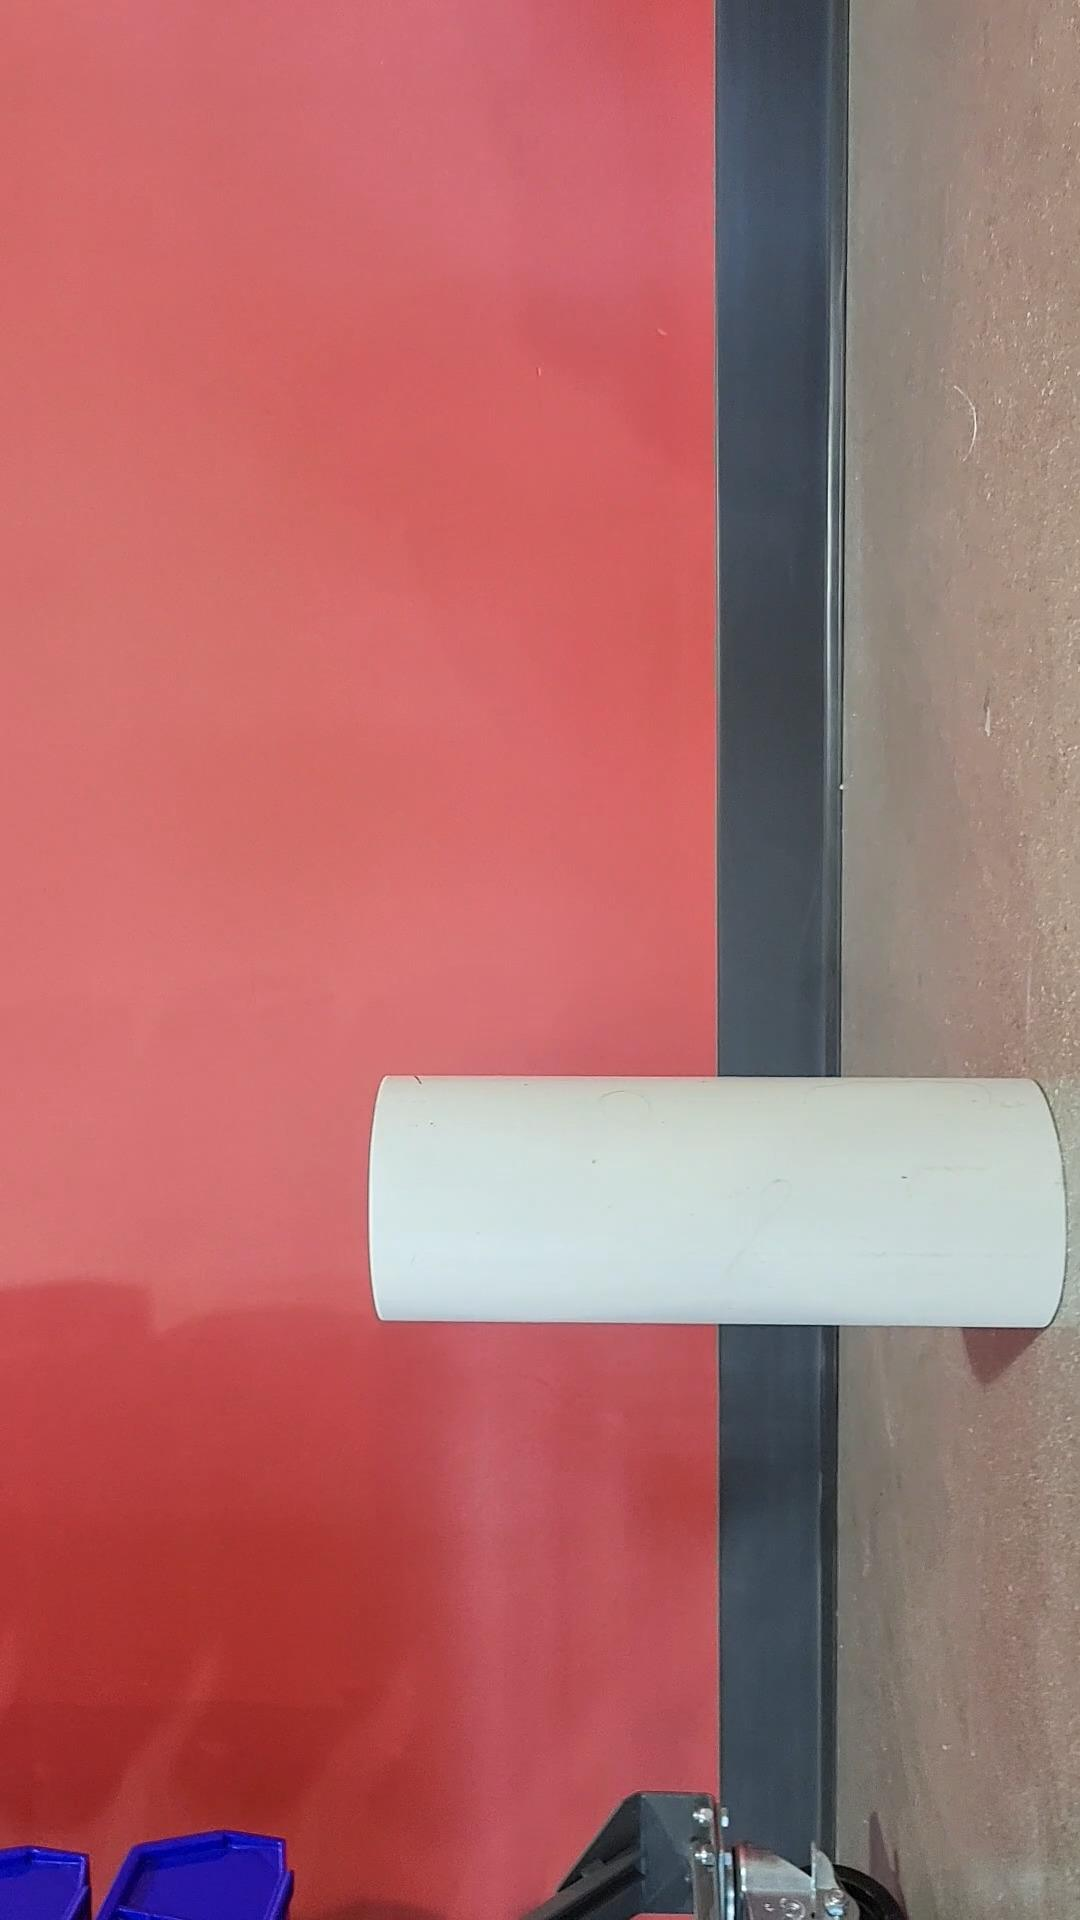coral: (364, 1062, 1080, 1333)
